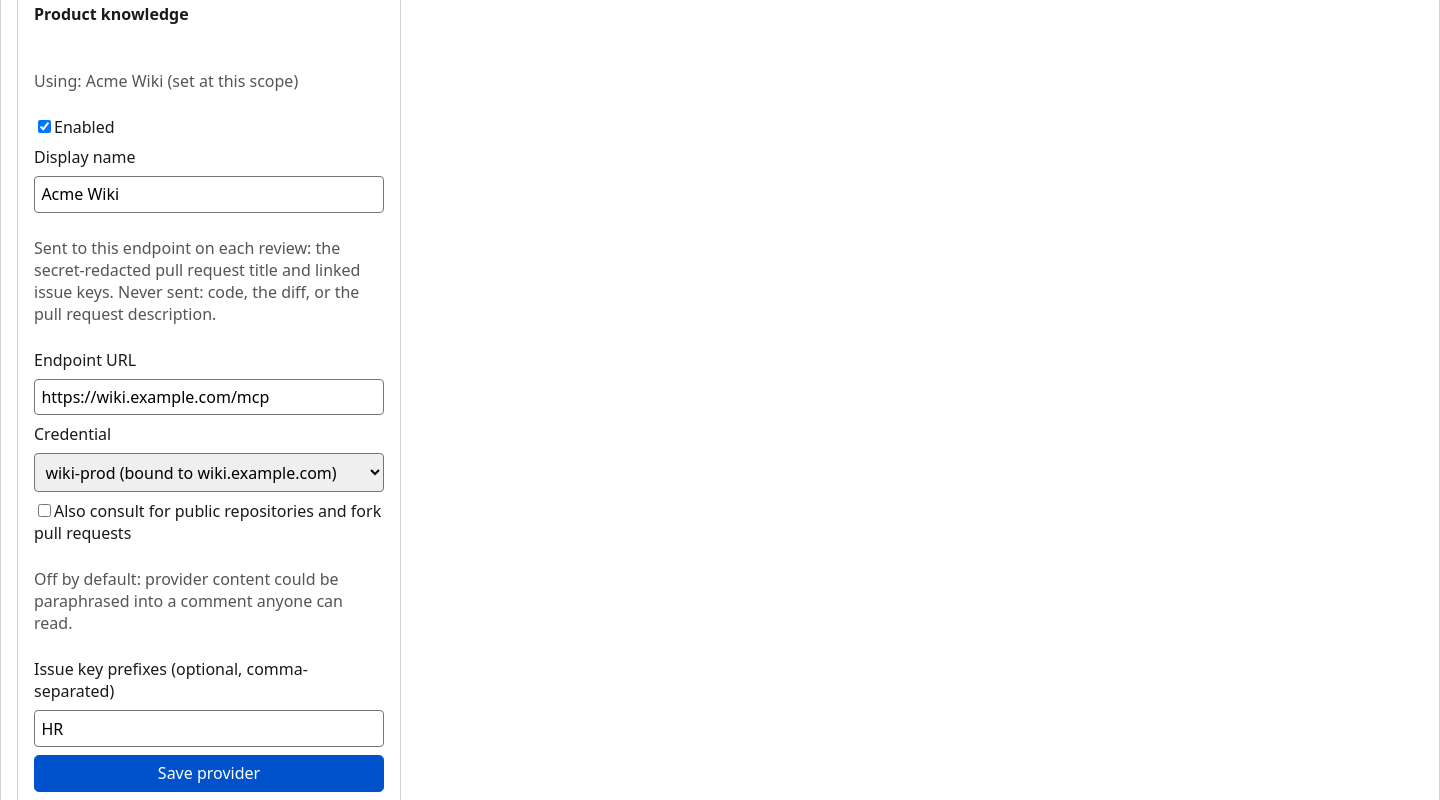
Scenario: ProductKnowledgePanel › test-connection is disabled and relabelled while the form is dirty
(page scrolled)
Replace the text in the field labelled "Endpoint URL" with "https://other.example.com/mcp" at (209, 397), box [34,379,384,416]
(page scrolled)
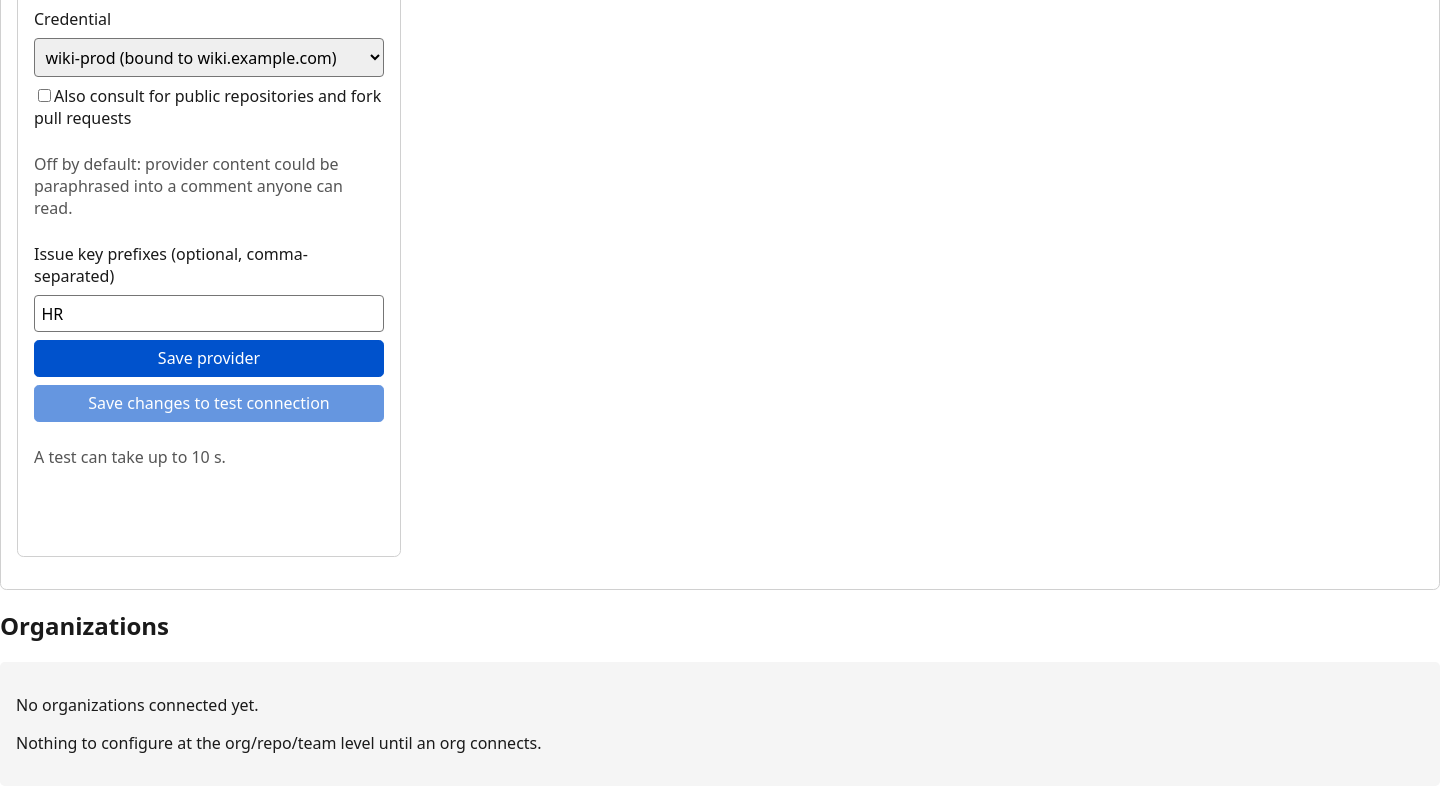
expect the button "Save changes to test connection" is disabled: met, box [34,385,384,422]
